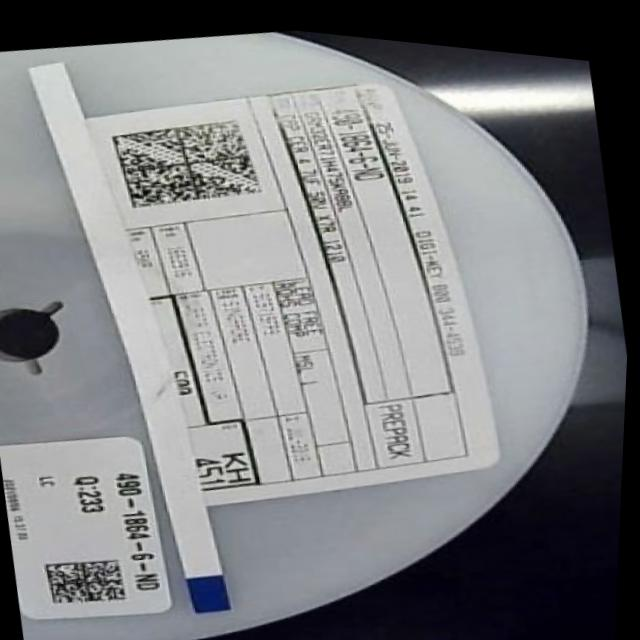datamatrix: (107, 99, 274, 222), (45, 548, 137, 613)
